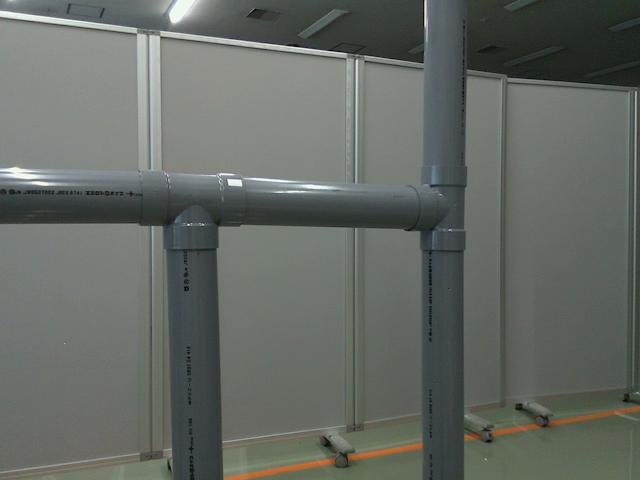junction: (138, 172, 244, 249), (406, 162, 469, 254)
